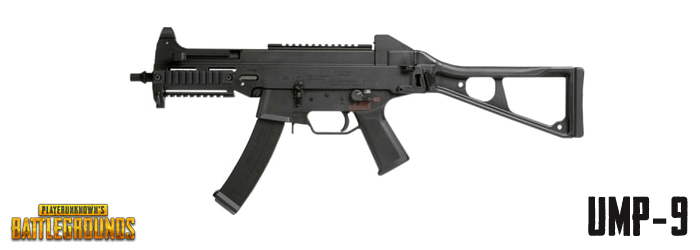gun: (126, 20, 589, 219)
